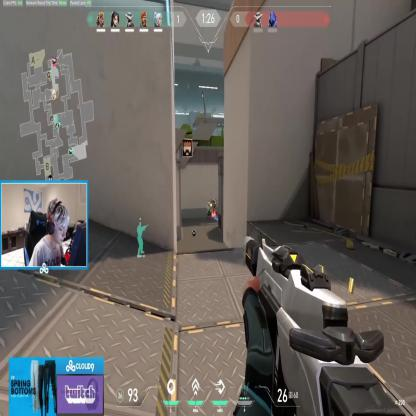enemy: (211, 199, 216, 217), (207, 201, 211, 219)
enemy_head: (208, 202, 210, 206), (213, 199, 215, 203)
